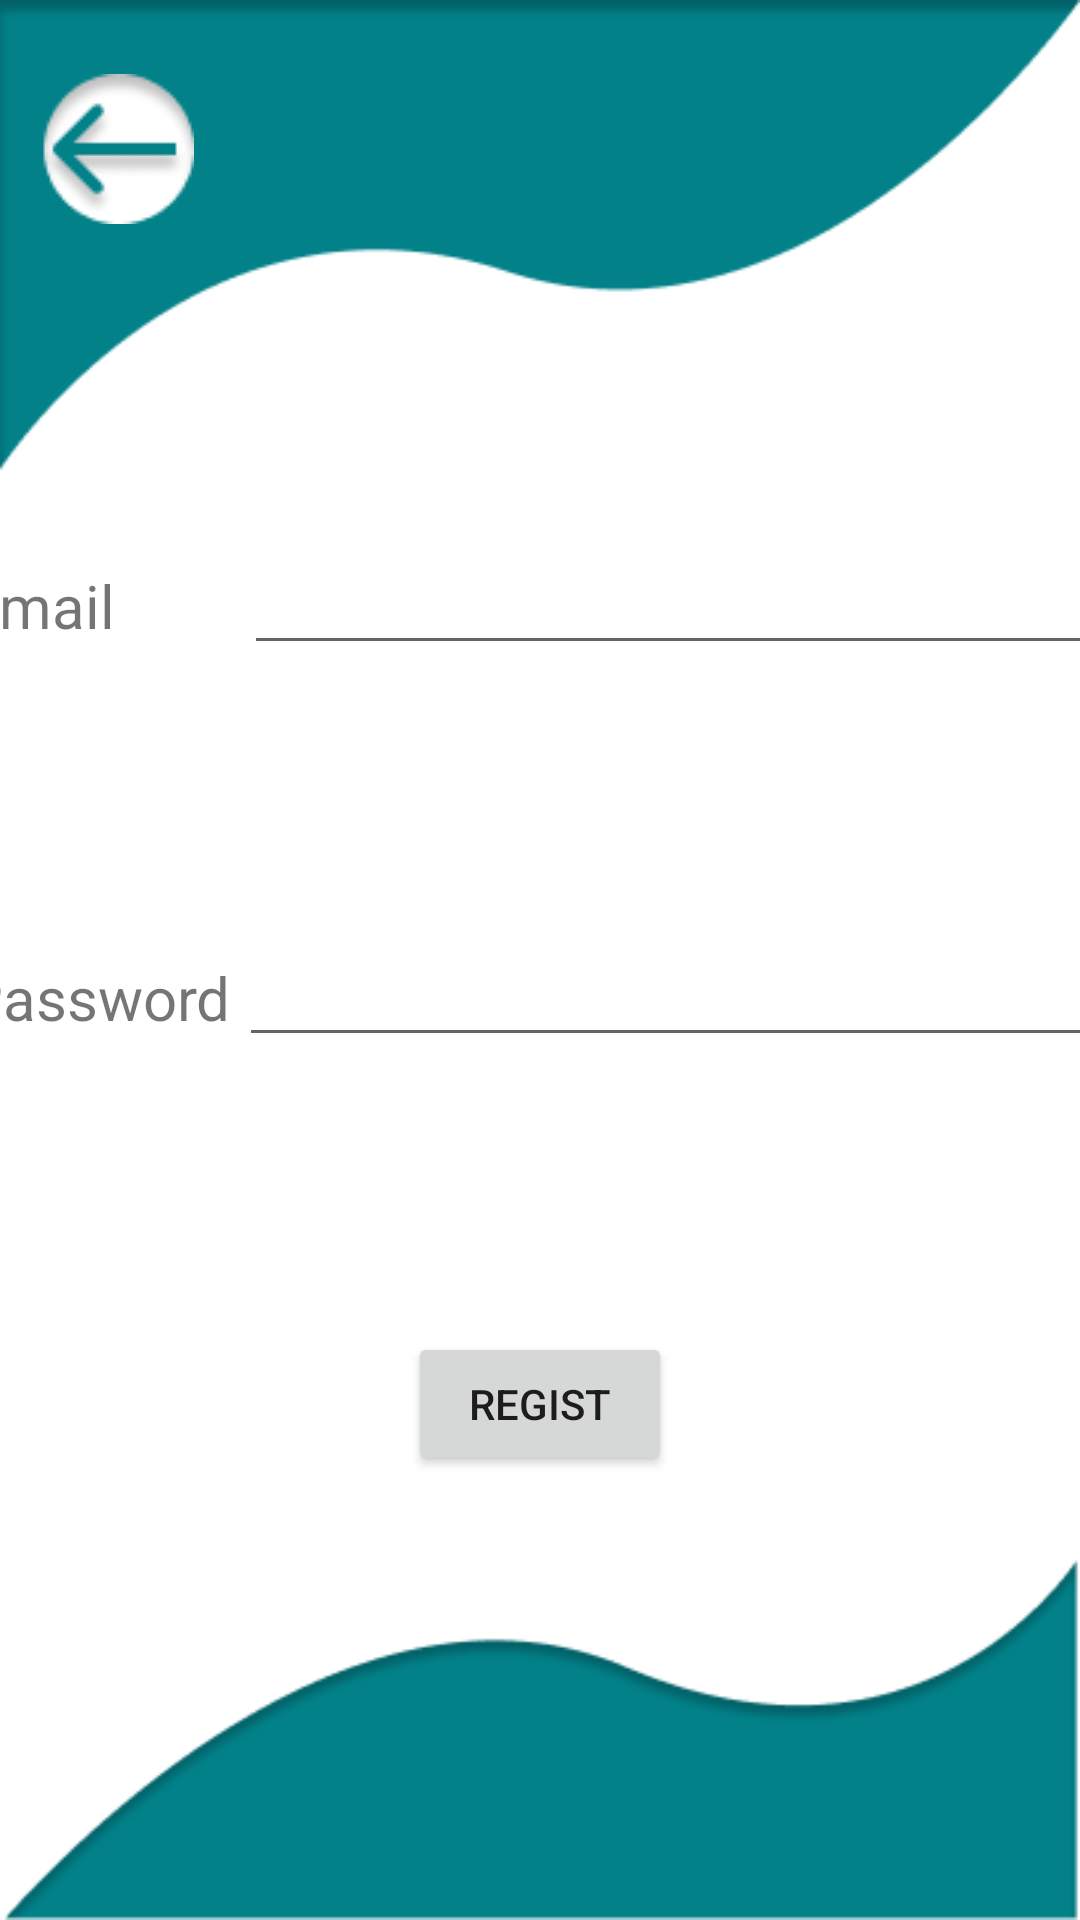

Icon bounding boxes for this 1080×1920 phone screenshot, format bbox=[x1, y1, x2, y2]:
back: bbox=[43, 74, 194, 224]
